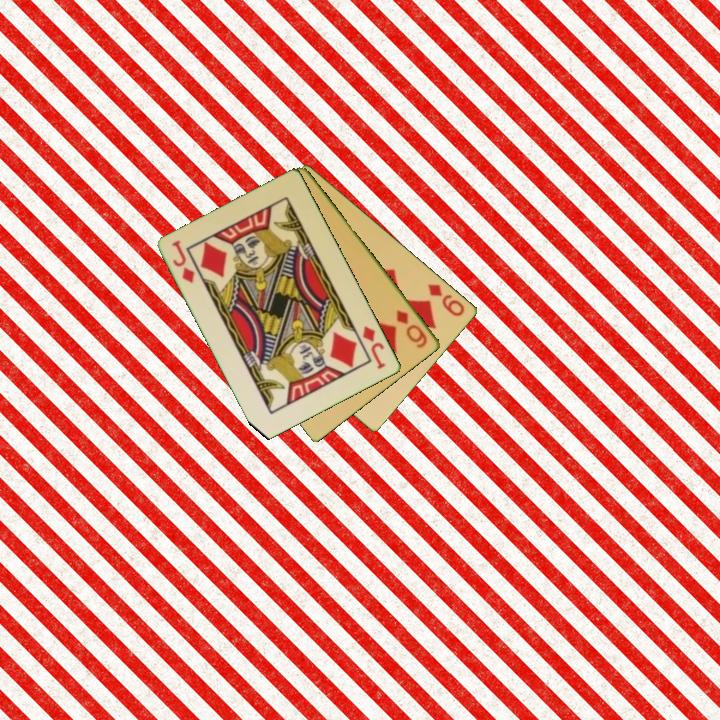6d: (393, 306, 431, 351)
9d: (424, 280, 468, 320)
Jd: (359, 323, 389, 372), (169, 237, 198, 287)
